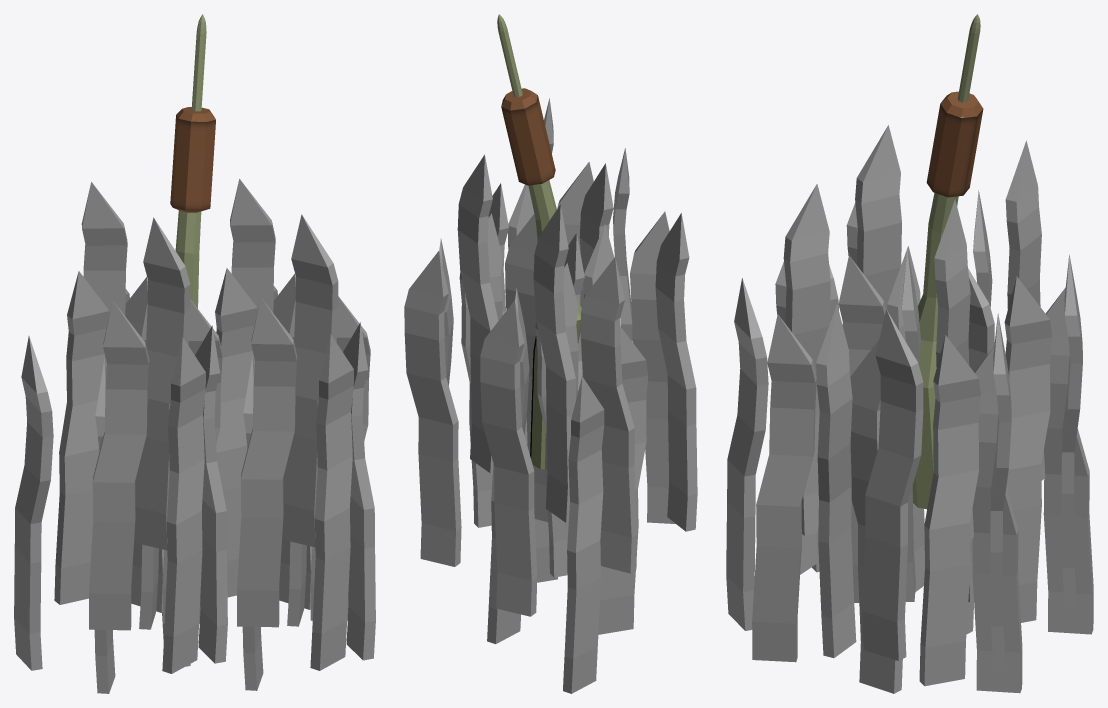
File: reed.fbx
3 renders of one model, left to right at view 1: azimuth 30°, elevation 25°; view 2: azimuth 150°, elevation 25°; view 3: azimuth 270°, elevation 25°, orthographic. The views are drawn at different scales.
Parts seen in each view (by area): view 1: pCube20, pCube14, pCube4, pCube24, pCube18, pCube13, pCube19, pCube2, pCube9, pCube21, pCube15, pCylinder1 (+10 smaller); view 2: pCube8, pCube5, pCube4, pCube2, pCube20, pCube1, pCube24, pCylinder1, pCube12, pCube23, pCube9, pCube3 (+12 smaller); view 3: pCube7, pCube15, pCube11, pCube16, pCube6, pCylinder1, pCube18, pCube10, pCube2, pCube13, pCube19, pCube17 (+10 smaller).
Boxes of the visible parts, x1=… form: pCube20: x1=89, y1=300, x2=149, y2=630; pCube14: x1=237, y1=297, x2=297, y2=627; pCube4: x1=54, y1=271, x2=109, y2=604; pCube24: x1=162, y1=337, x2=205, y2=673; pCube18: x1=310, y1=334, x2=353, y2=670; pCube13: x1=282, y1=214, x2=338, y2=547; pCube19: x1=134, y1=217, x2=190, y2=550; pCube2: x1=14, y1=336, x2=53, y2=670; pCube9: x1=215, y1=268, x2=257, y2=597; pCube21: x1=195, y1=325, x2=227, y2=663; pCube15: x1=343, y1=322, x2=375, y2=660; pCylinder1: x1=170, y1=14, x2=215, y2=308; pCube8: x1=404, y1=251, x2=461, y2=566; pCube5: x1=480, y1=300, x2=537, y2=616; pCube4: x1=581, y1=257, x2=637, y2=573; pCube2: x1=563, y1=376, x2=604, y2=693; pCube20: x1=655, y1=213, x2=697, y2=531; pCube1: x1=533, y1=204, x2=575, y2=522; pCube24: x1=630, y1=211, x2=675, y2=523; pCylinder1: x1=497, y1=14, x2=581, y2=469; pCube12: x1=457, y1=154, x2=498, y2=473; pCube23: x1=598, y1=327, x2=648, y2=634; pCube9: x1=505, y1=214, x2=547, y2=522; pCube3: x1=535, y1=263, x2=578, y2=577; pCube7: x1=919, y1=335, x2=980, y2=686; pCube15: x1=752, y1=314, x2=816, y2=662; pCube11: x1=862, y1=309, x2=923, y2=660; pCube16: x1=816, y1=304, x2=856, y2=657; pCube6: x1=1004, y1=276, x2=1052, y2=622; pCylinder1: x1=912, y1=14, x2=983, y2=509; pCube18: x1=726, y1=278, x2=768, y2=630; pCube10: x1=972, y1=346, x2=1022, y2=693; pCube2: x1=1043, y1=288, x2=1093, y2=634; pCube13: x1=783, y1=184, x2=830, y2=535; pCube19: x1=855, y1=125, x2=901, y2=310; pCube17: x1=850, y1=339, x2=902, y2=693.
Bounding box in the file's own units: 1.77 × 4.25 × 2.07.
2 materials, 1 textured.
